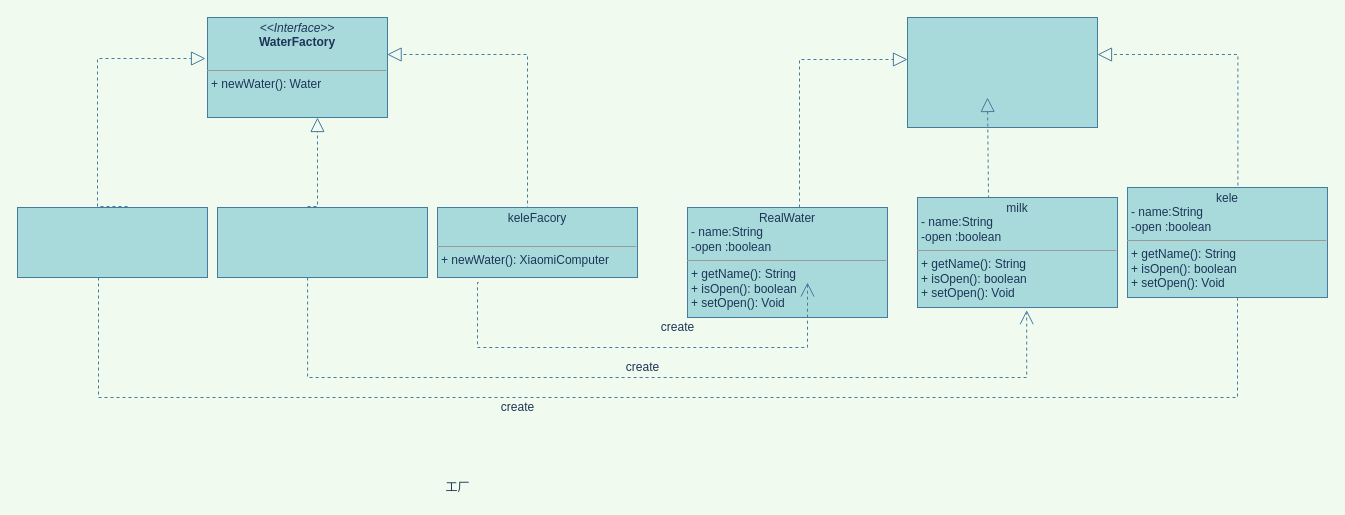
Image size: 1345x515. Some labels were removed from this diagram. The centre of each missing label's shape, as x and y in pixels:
<<Interface>> Water + getName(): String + isOpen(): boolean + setOpen(): Void: the point at 1002,72
MilkFacory + newWater(): HuaweiComputer: the point at 322,242
RealWaterFacory + newWater(): MacComputer: the point at 112,242
